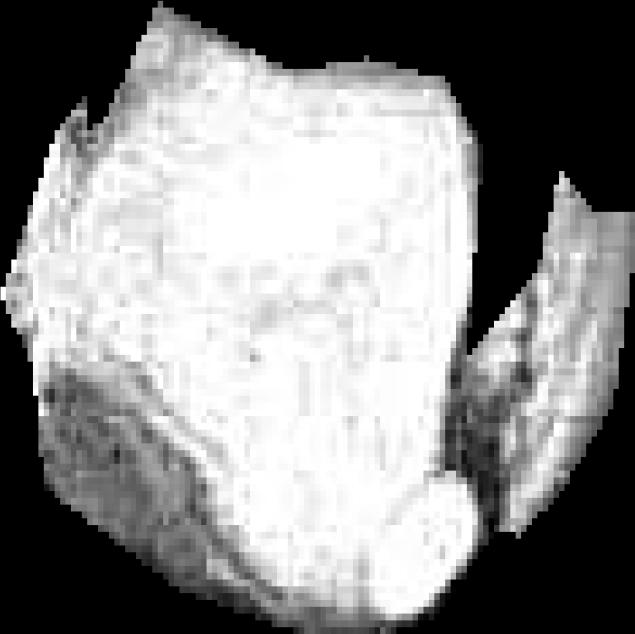tumor_moderate_chance: (0, 1, 635, 634)
